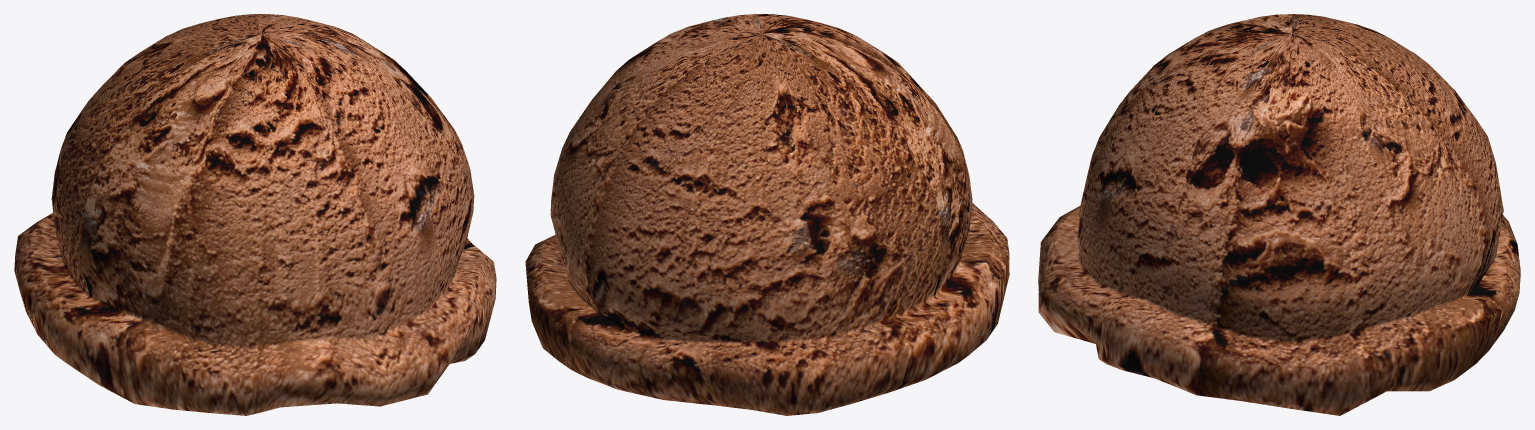
File: scoop-chocolate.gltf
The picture shows the model from 3 angles, left to right: view 1: azimuth 30°, elevation 25°; view 2: azimuth 150°, elevation 25°; view 3: azimuth 270°, elevation 25°; orthographic projection. The views are drawn at different scales.
Parts seen in each view (by area): view 1: Scoop; view 2: Scoop; view 3: Scoop.
Part boxes in pixels (x1,y1,x2,y2): Scoop: (14,14,496,415); Scoop: (525,14,1009,415); Scoop: (1038,14,1520,415).
Size of the model in its own units: 1.33 by 0.9831 by 1.38.
Materials: 1 (1 with a texture image).
